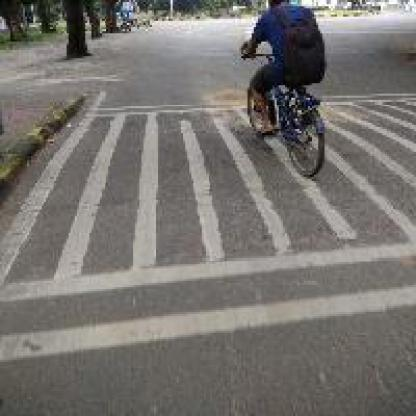Speed Bump: (0, 100, 250, 370), (322, 92, 414, 320)
